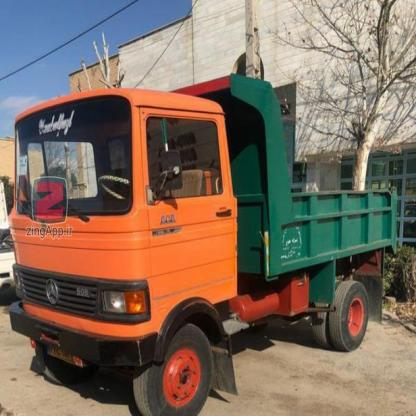Truck: (6, 93, 388, 412)
